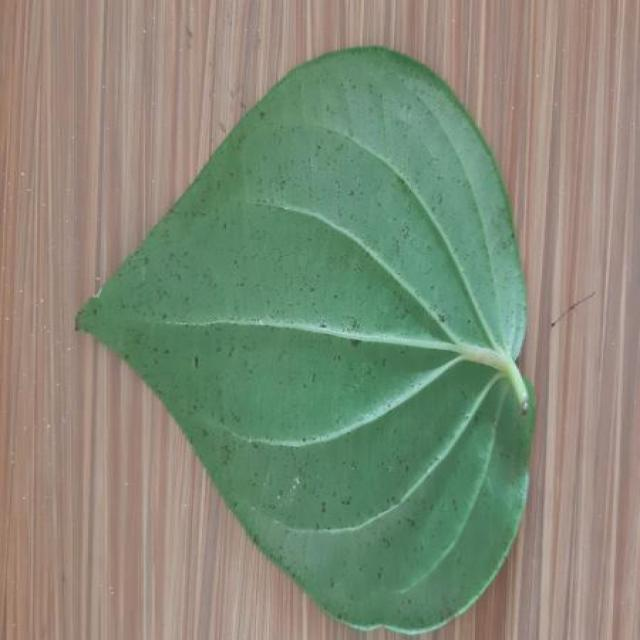betel: (78, 46, 533, 632)
